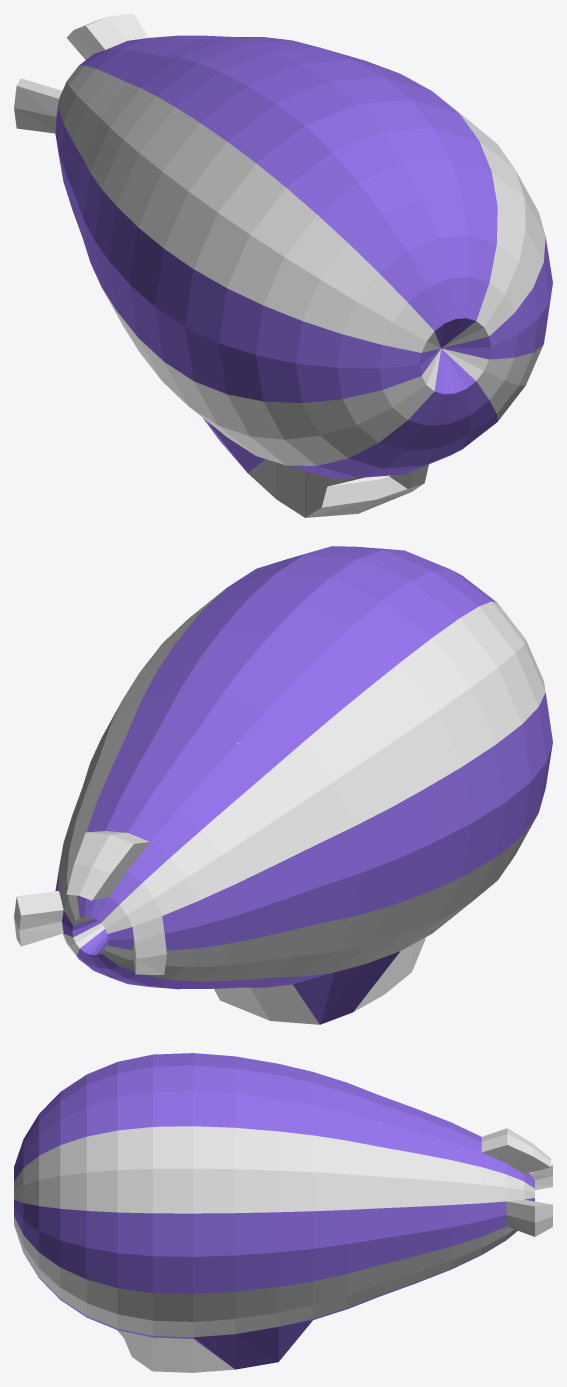
The model's file is zeppinside.fbx.
3 renders of one model, top to bottom at view 1: azimuth 30°, elevation 25°; view 2: azimuth 150°, elevation 25°; view 3: azimuth 270°, elevation 25°, orthographic. The views are drawn at different scales.
Visible parts, largest first — view 1: pSphere1; view 2: pSphere1; view 3: pSphere1.
Part boxes in pixels (box(x1,y1,x2,y2)): pSphere1: box(14, 14, 552, 517); pSphere1: box(14, 546, 552, 1024); pSphere1: box(14, 1053, 552, 1372).
Bounding box in the file's own units: 8.28 × 9.31 × 15.49.
